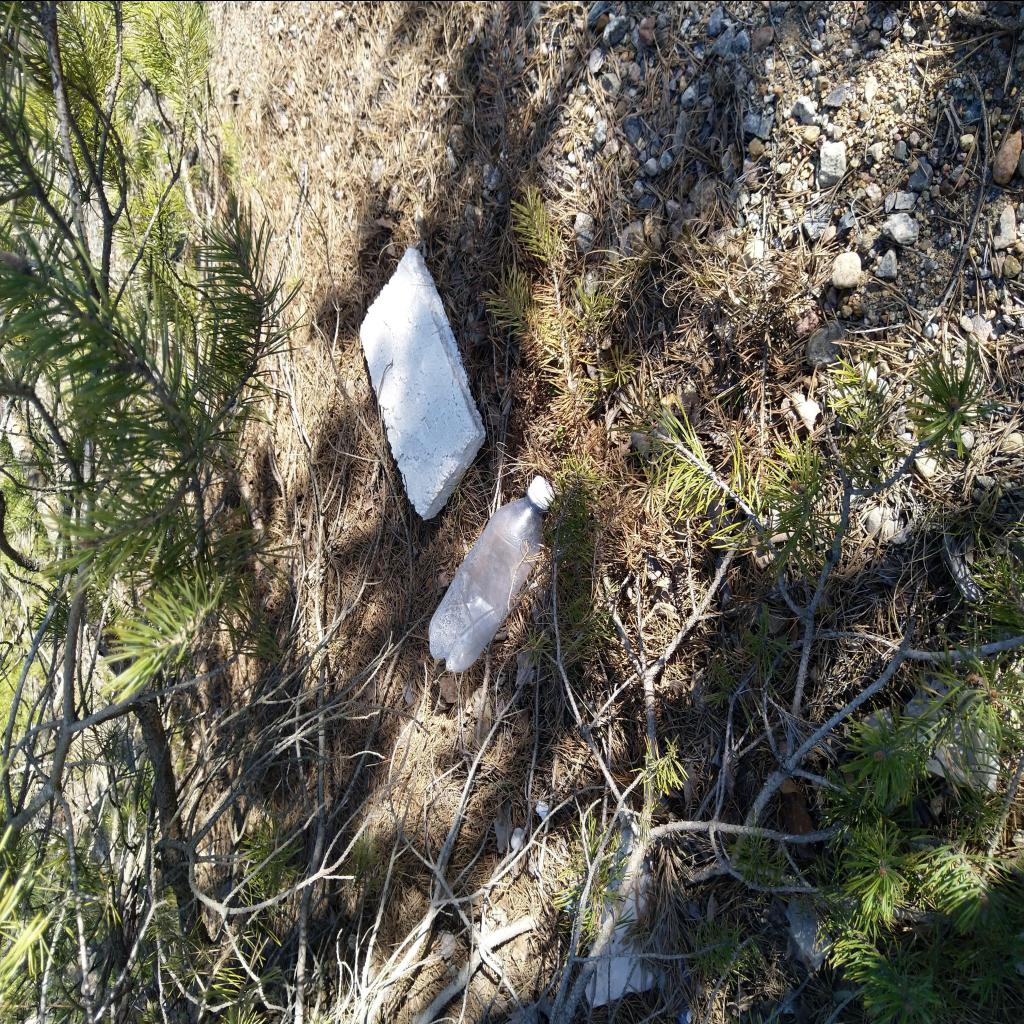Clear plastic bottle: (428, 474, 556, 672)
Plastic bottle cap: (530, 475, 556, 505)
Plastic film: (864, 678, 1000, 794)
Styrofoam piece: (360, 246, 486, 520), (535, 798, 548, 819)
